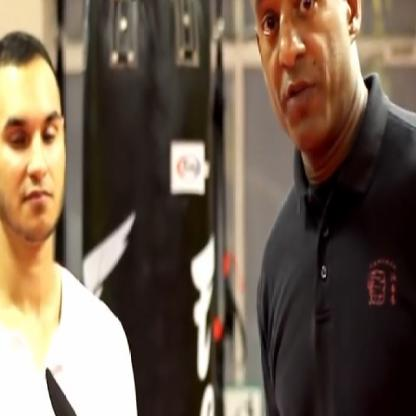knife: (42, 363, 160, 415)
